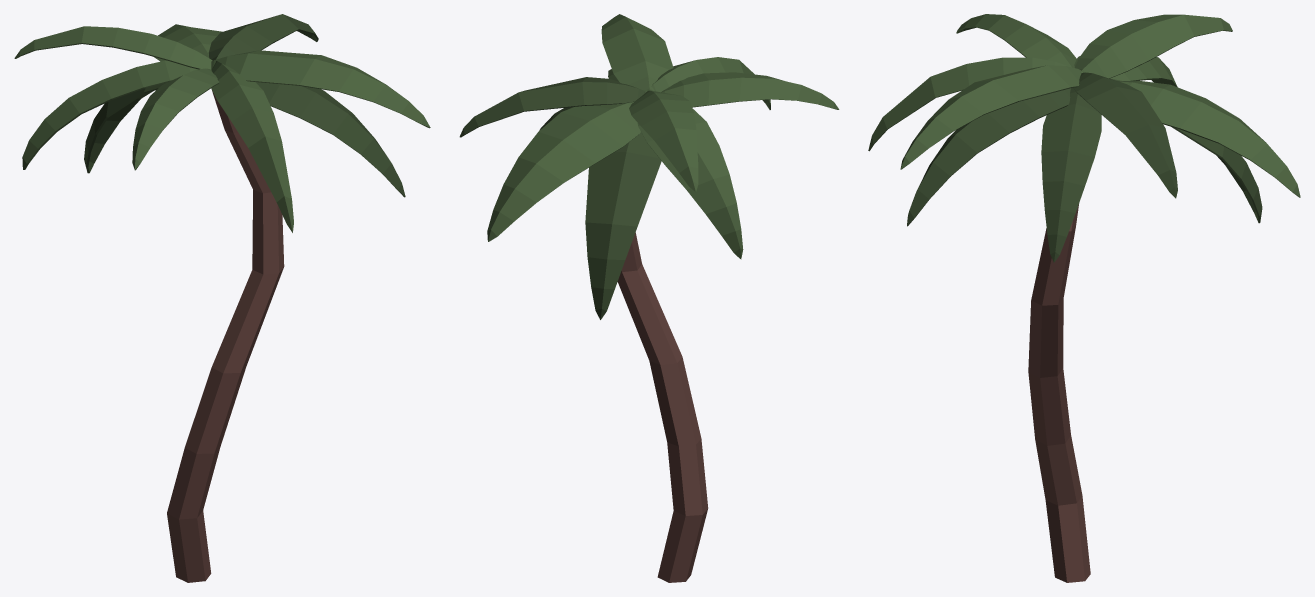
Rendered from PalmTree_3.gltf.
3 views of the same model, side by side, from view 1: azimuth 30°, elevation 25°; view 2: azimuth 150°, elevation 25°; view 3: azimuth 270°, elevation 25° (orthographic). The views are drawn at different scales.
Visible parts, largest first — view 1: PalmTree_3; view 2: PalmTree_3; view 3: PalmTree_3.
Boxes of the visible parts, x1,y1,x2,y2 form: PalmTree_3: [14, 14, 430, 582]; PalmTree_3: [459, 14, 839, 582]; PalmTree_3: [868, 14, 1300, 582].
Bounding box in the file's own units: 1.31 × 2.23 × 1.63.
